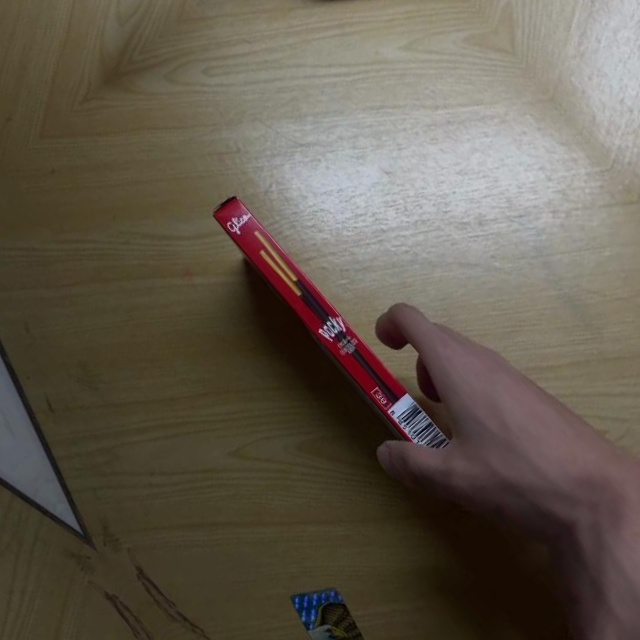Pocky: (206, 185, 505, 531)
